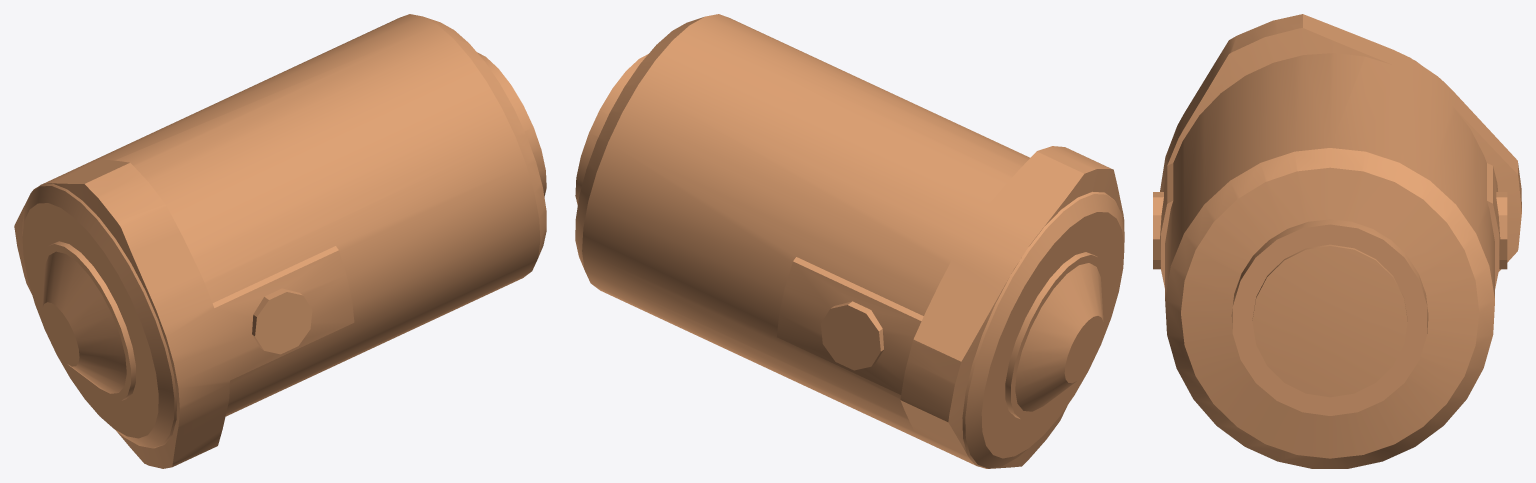
3 renders of one model, left to right at view 1: azimuth 30°, elevation 25°; view 2: azimuth 150°, elevation 25°; view 3: azimuth 270°, elevation 25°, orthographic. The views are drawn at different scales.
Parts seen in each view (by area): view 1: IRB6600_WT; view 2: IRB6600_WT; view 3: IRB6600_WT.
Boxes of the visible parts, x1,y1,x2,y2 form: IRB6600_WT: [14, 14, 546, 468]; IRB6600_WT: [575, 14, 1124, 468]; IRB6600_WT: [1153, 14, 1521, 468].
Bounding box in the file's own units: 0.6226 × 0.375 × 0.4563.
